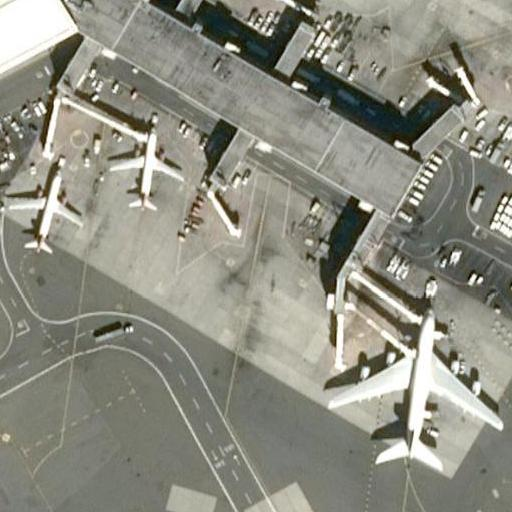Aircraft: (325, 296, 505, 478), (2, 162, 85, 255), (109, 126, 183, 206)
